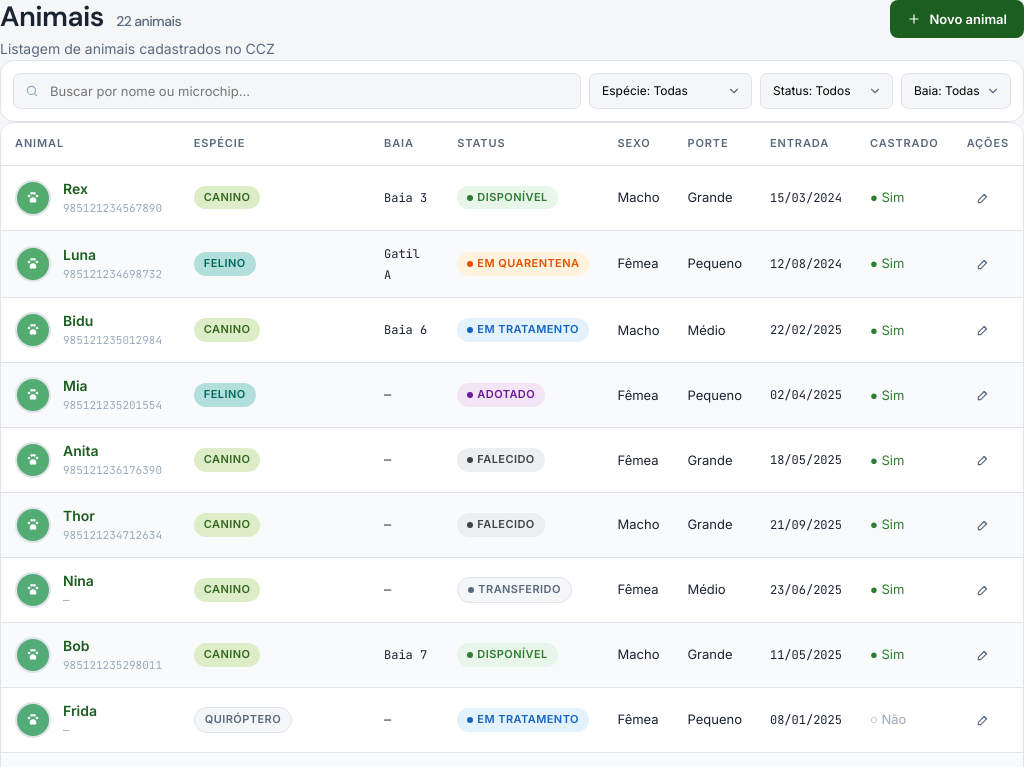
Test: Animais › filtra por baia
Expected: the link "Rex" is shown, [63,180,88,197]
Select "Gatil A" in the dropdown named "filtrar por baia" at point(956, 91), box [901,73,1011,109]
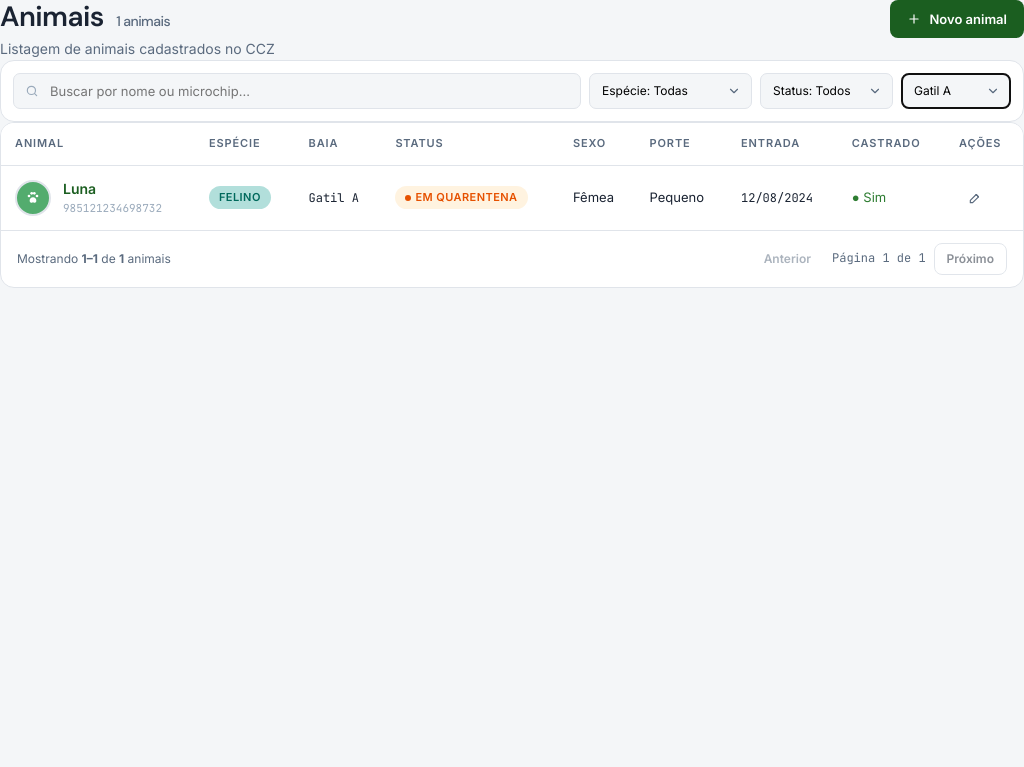
Expected: the link "Luna" is shown, [63,180,96,197]
Expected: the link "Rex" is gone
